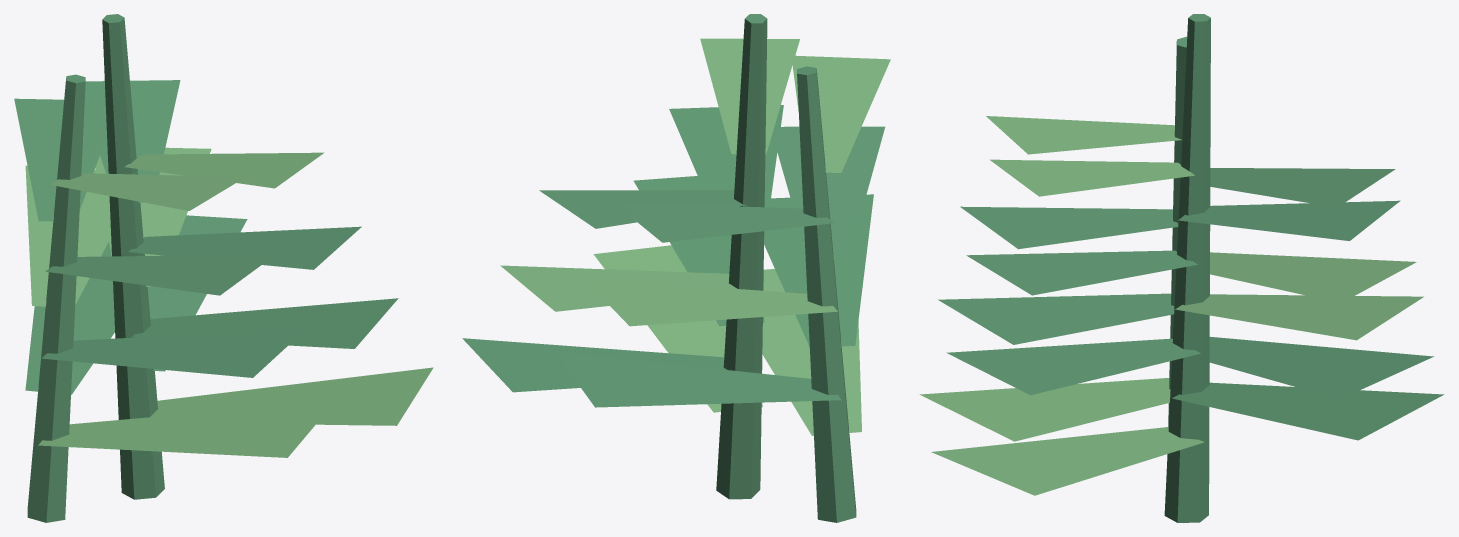
The model's file is myb_forest_fern_a.fbx.
The picture shows the model from 3 angles, left to right: view 1: azimuth 30°, elevation 25°; view 2: azimuth 150°, elevation 25°; view 3: azimuth 270°, elevation 25°; orthographic projection. The views are drawn at different scales.
Parts seen in each view (by area): view 1: myb_forest_fern_a; view 2: myb_forest_fern_a; view 3: myb_forest_fern_a.
Boxes of the visible parts, box(x1,y1,x2,y2) form: myb_forest_fern_a: box(14, 14, 433, 522); myb_forest_fern_a: box(462, 14, 890, 522); myb_forest_fern_a: box(919, 14, 1444, 522).
Size of the model in its own units: 0.6167 by 0.8436 by 0.8232.
